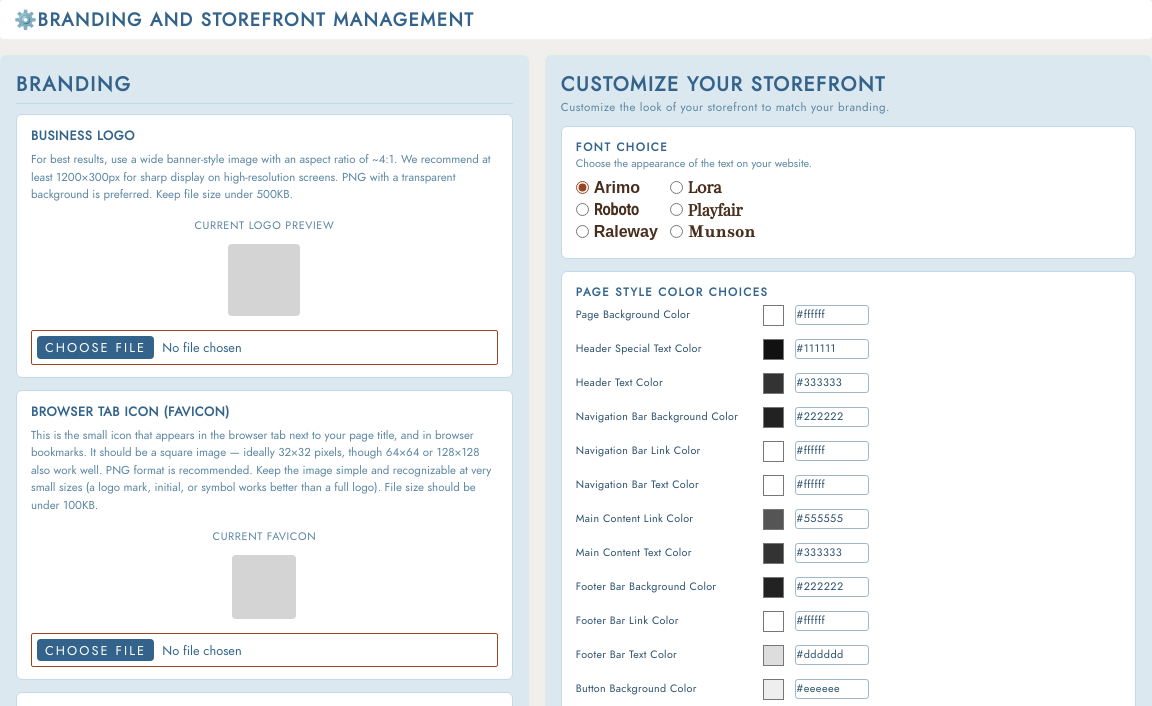
AdminStorefrontSettings › handles valid hex input without hash
Expected: the text "Page Style Color Choices" is shown, [576,284,768,300]
Replace the text in the field with placeholder "#000000" next to "Page Background Color" with "abcdef": {"x": 832, "y": 315} [795,305,869,325]
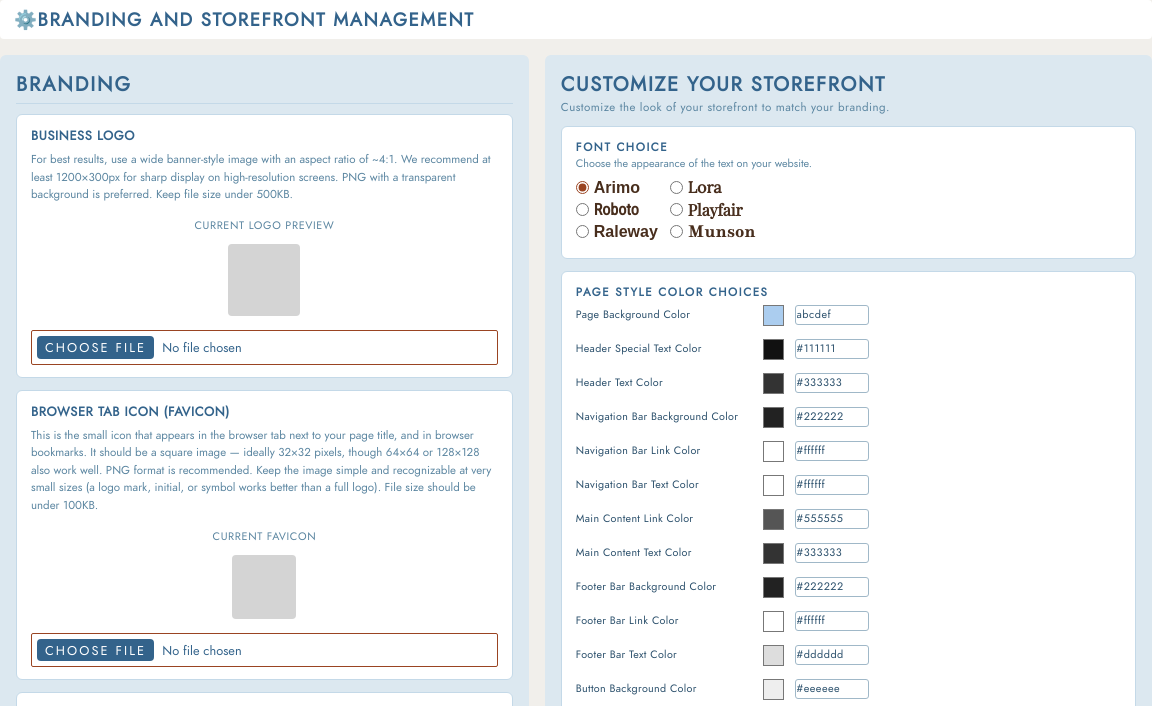
Leave the field with placeholder "#000000" next to "Page Background Color", box [795,305,869,325]
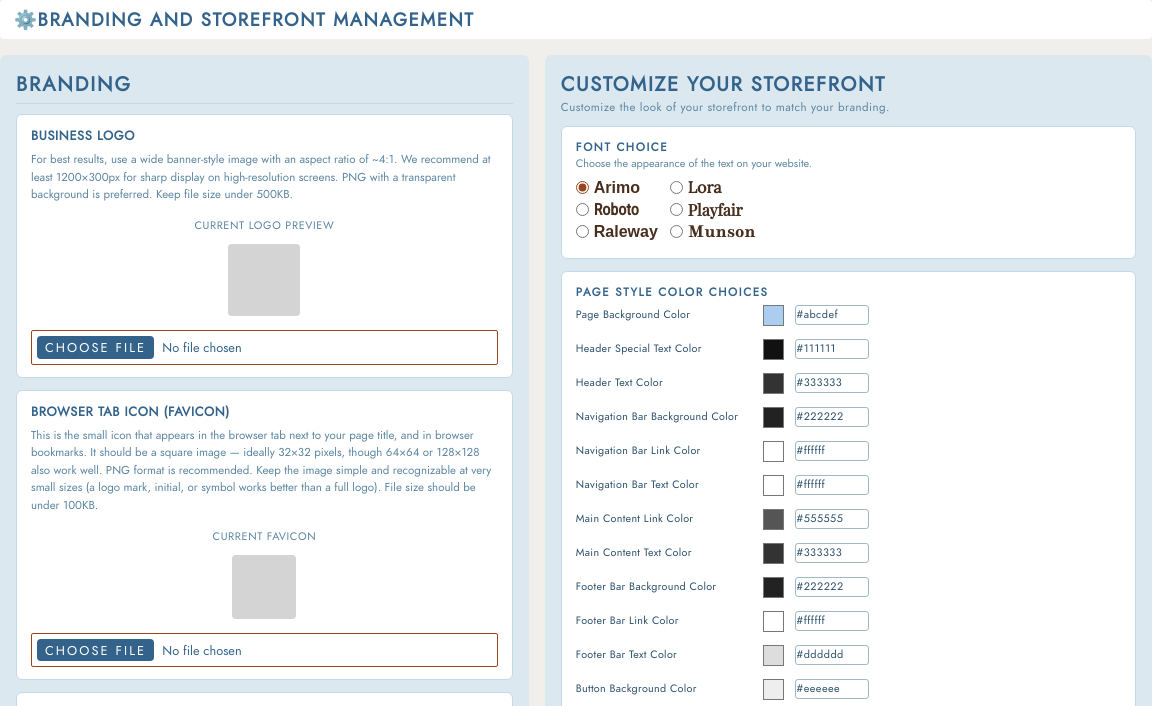
Expected: the field with placeholder "#000000" next to "Page Background Color" holds "#abcdef", [795,305,869,325]
